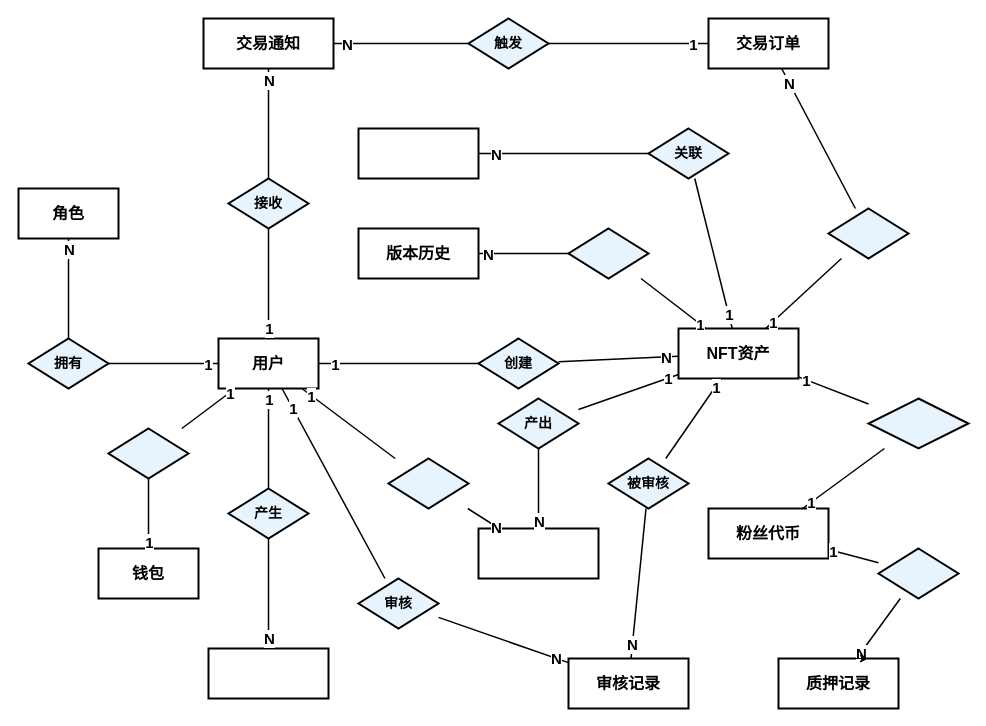
This 986x726 diagram has some shape labels left out. The centre of each missing label's shape, as x and y in pixels:
IPFS文件: the point at 418,153
交易: the point at 868,233
发行代币: the point at 918,423
发起: the point at 428,483
审计日志: the point at 268,673
绑定: the point at 148,453
质押: the point at 918,573
迭代: the point at 608,253
铸造任务: the point at 538,553
